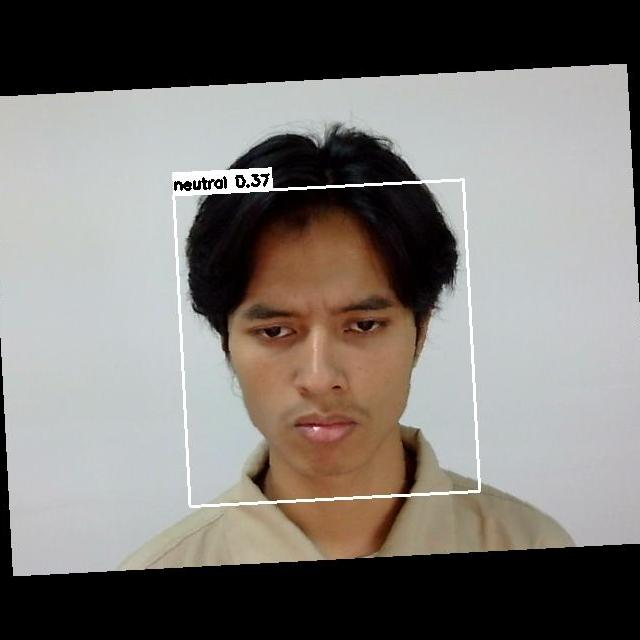Sad: (216, 265, 435, 467)
